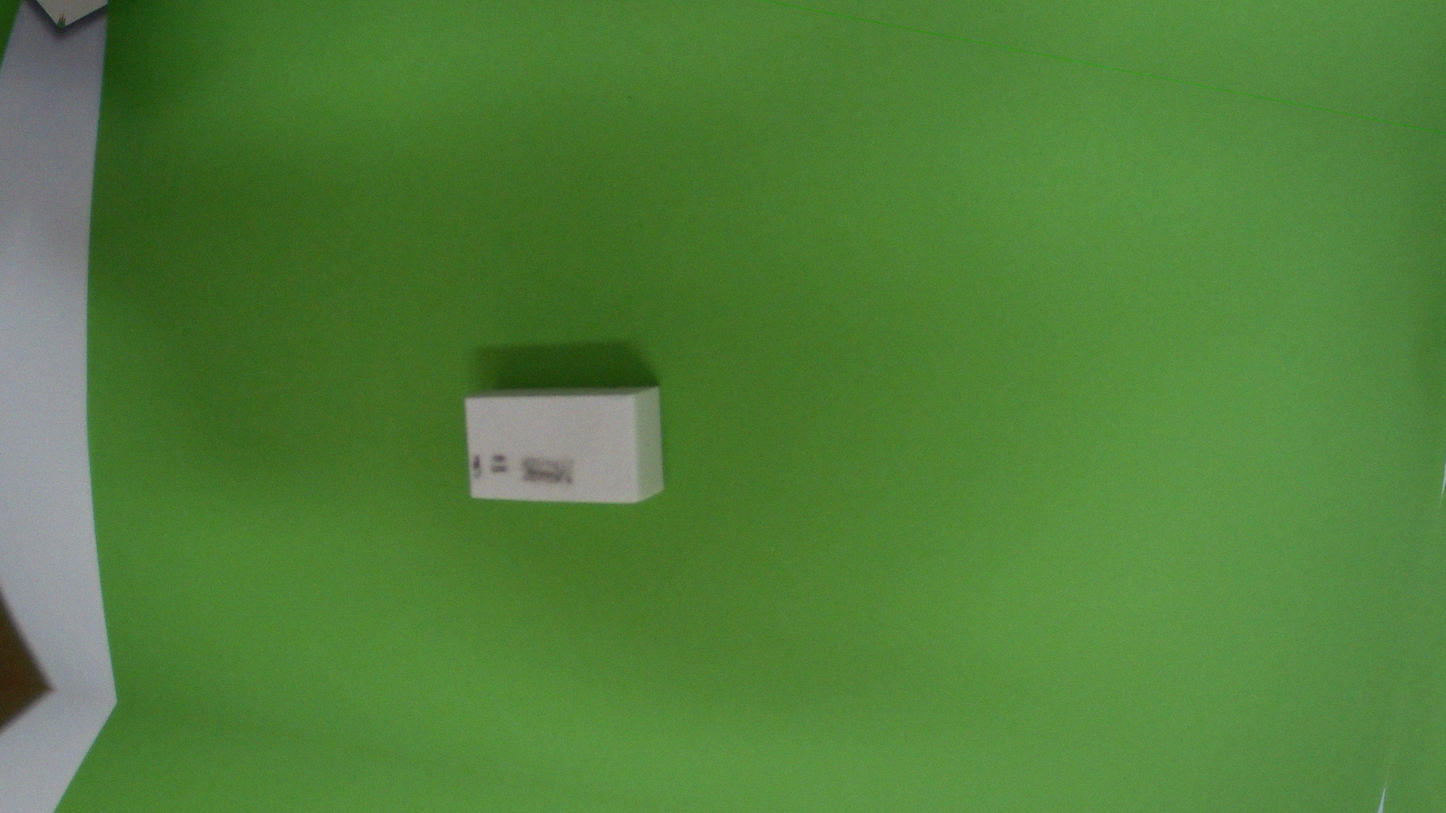gom: (447, 344, 682, 540)
